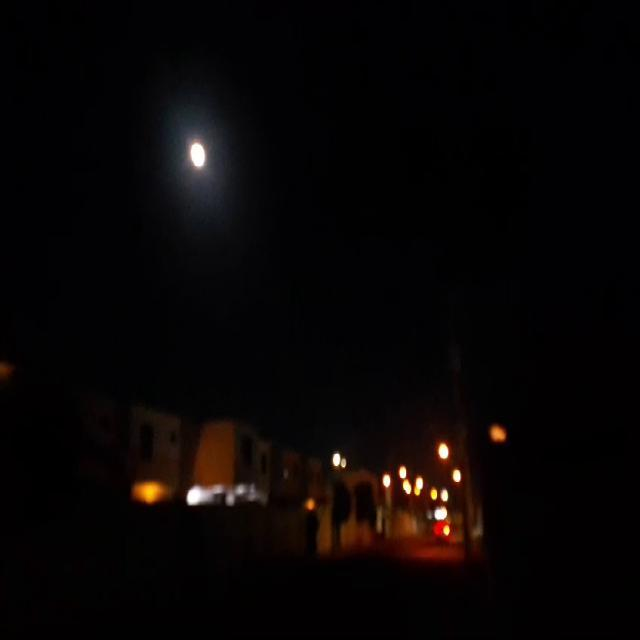moon: (186, 142, 206, 176)
